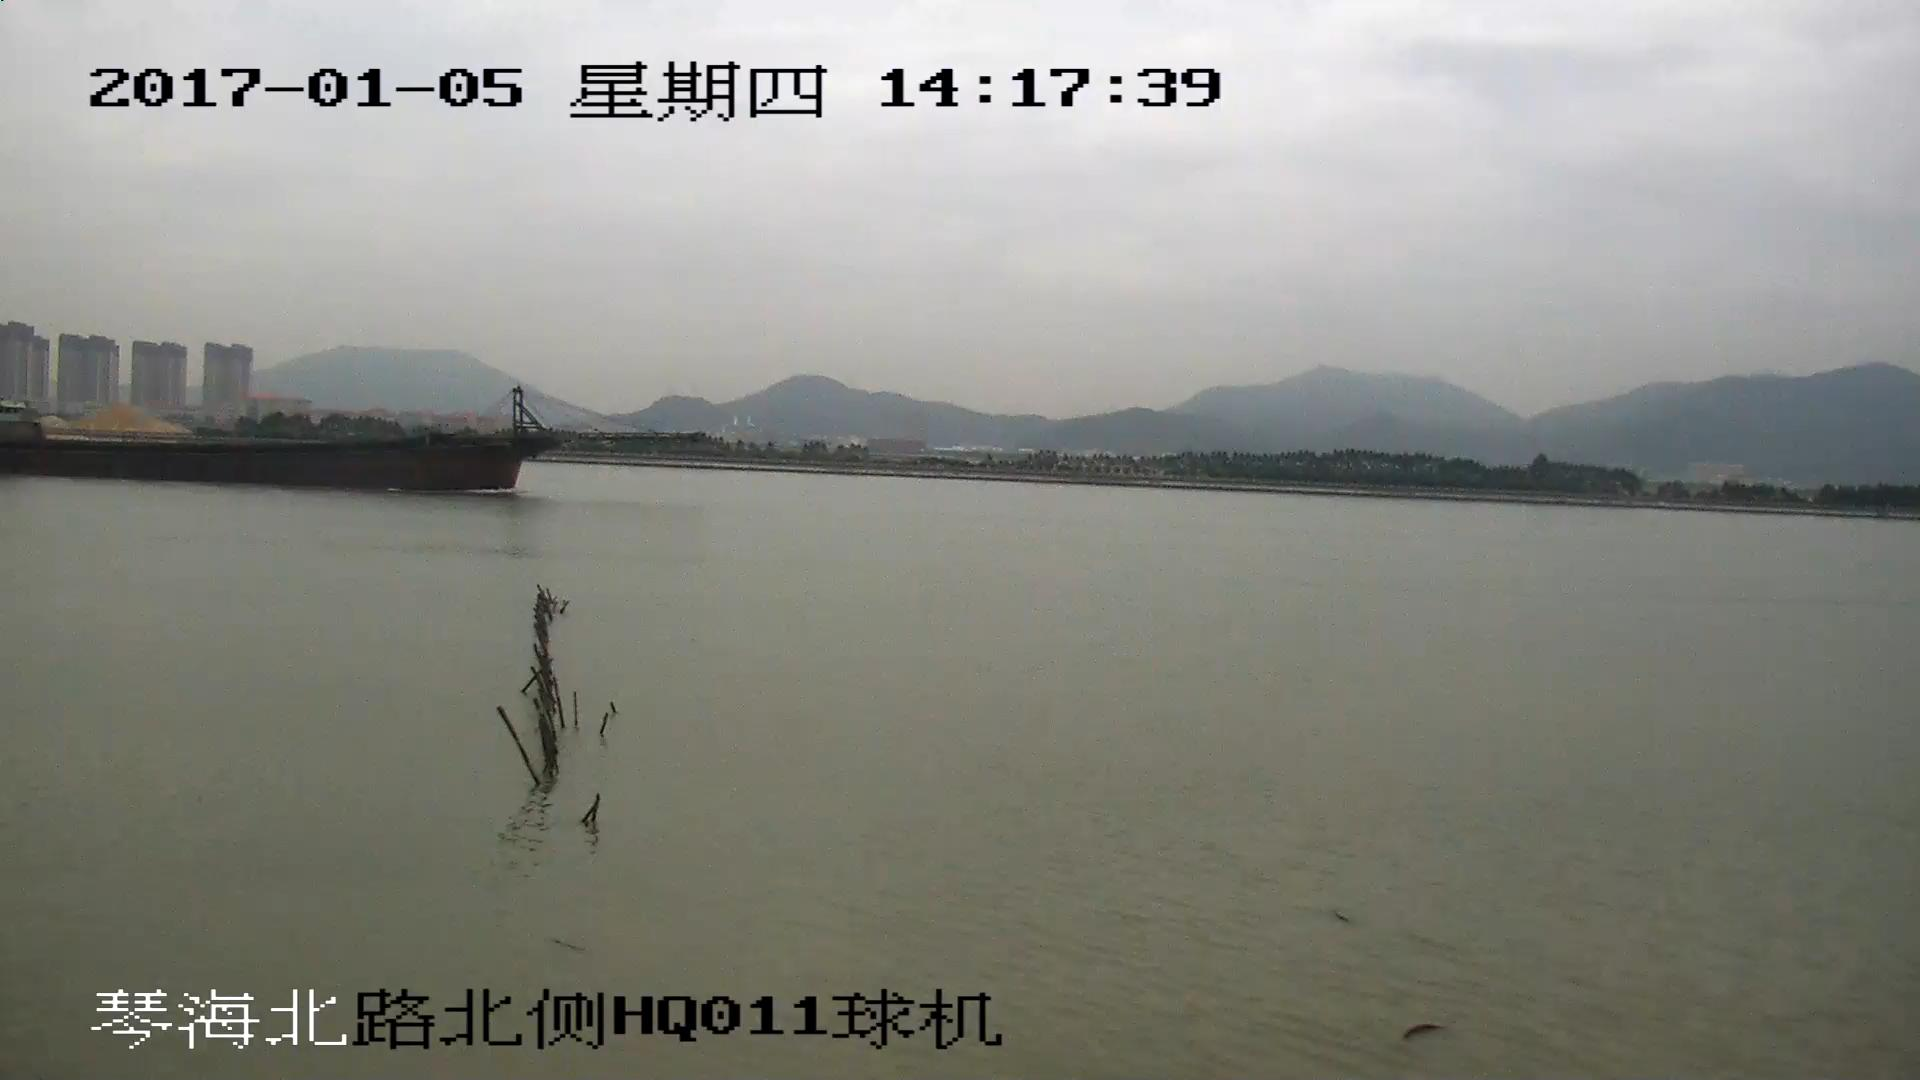bulk cargo carrier: (1, 381, 703, 496)
